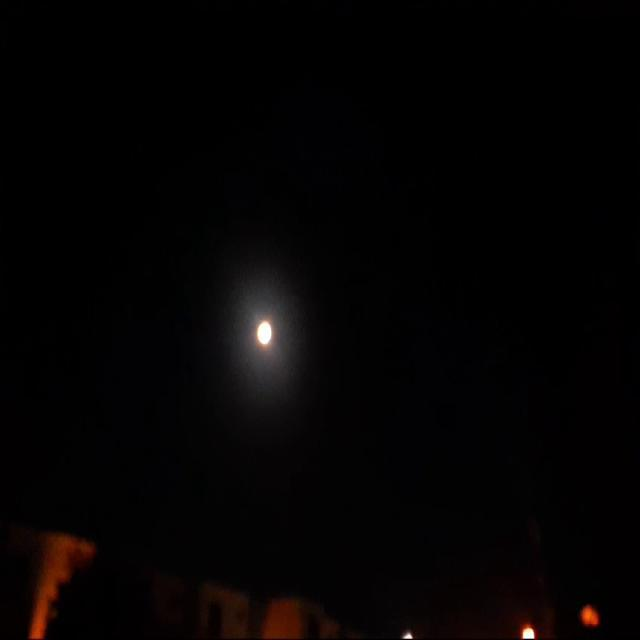moon: (254, 307, 276, 346)
